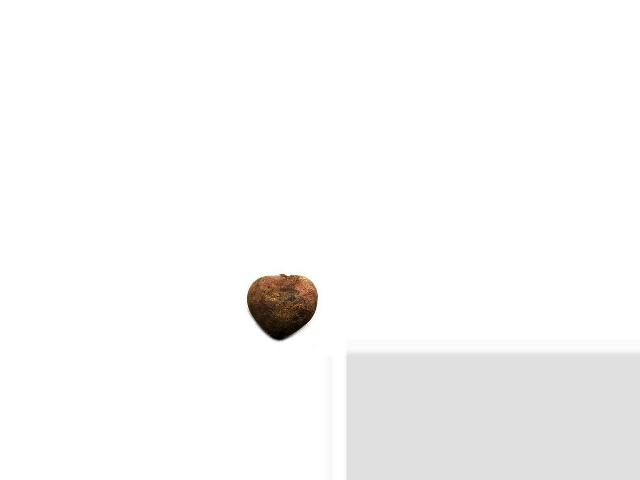beet: (247, 275, 318, 339)
